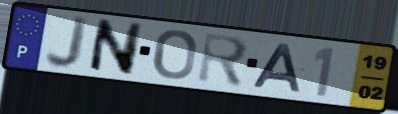1: (312, 45, 337, 99)
A: (250, 43, 304, 95)
J: (43, 13, 92, 71)
N: (85, 17, 146, 78)
O: (152, 28, 199, 81)
R: (196, 30, 252, 90)
